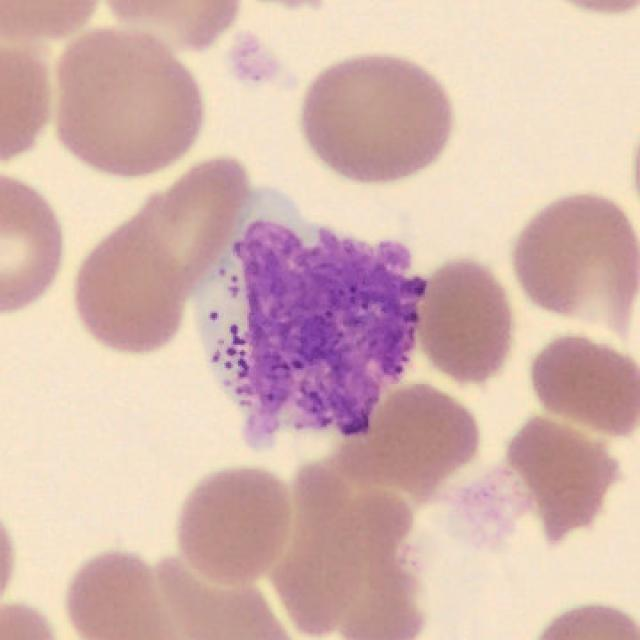Linfocito atipico: (192, 188, 428, 452)
